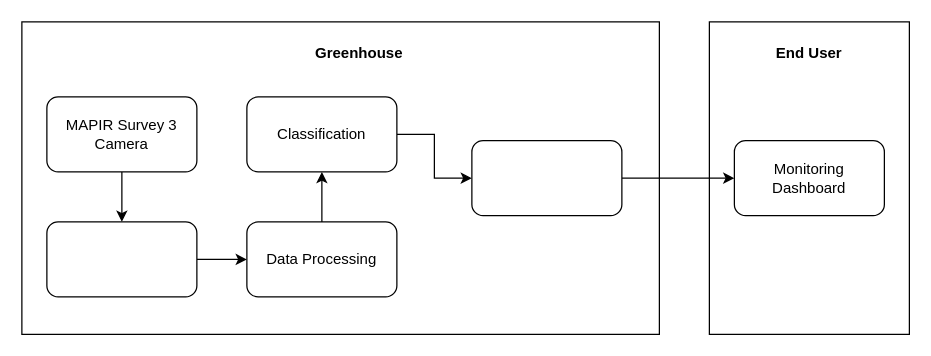
The diagram is 931 pixels wide and 356 high, and some of its shapes have lost their labels. The shapes that lost their labels are listed below. From the top down, each one's box as (x1, y1, x2, y2) in pixels, then its label:
(471, 139, 622, 216): IoT Platform
(46, 221, 197, 297): Raspberry PI
